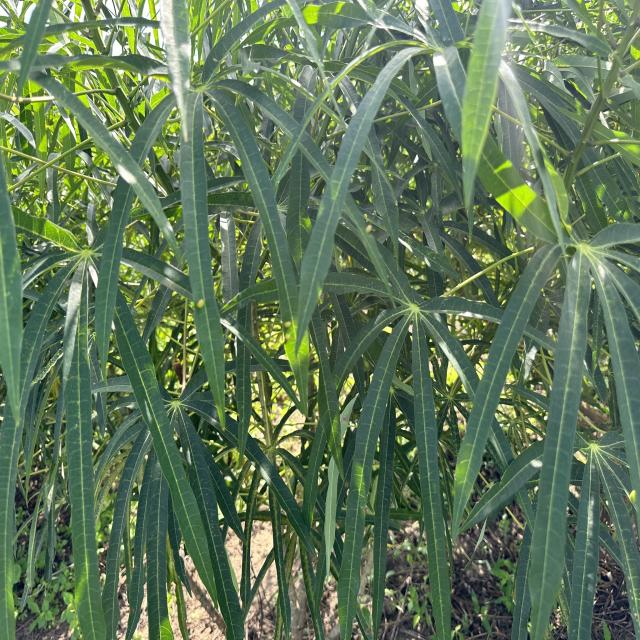Mosca: (133, 446, 173, 475), (226, 80, 250, 119), (191, 287, 218, 316), (622, 472, 640, 511)
